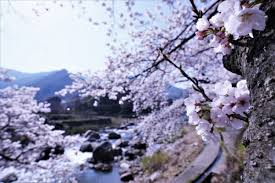flower: (104, 5, 257, 169), (1, 89, 80, 183)
tree: (118, 5, 275, 177)
